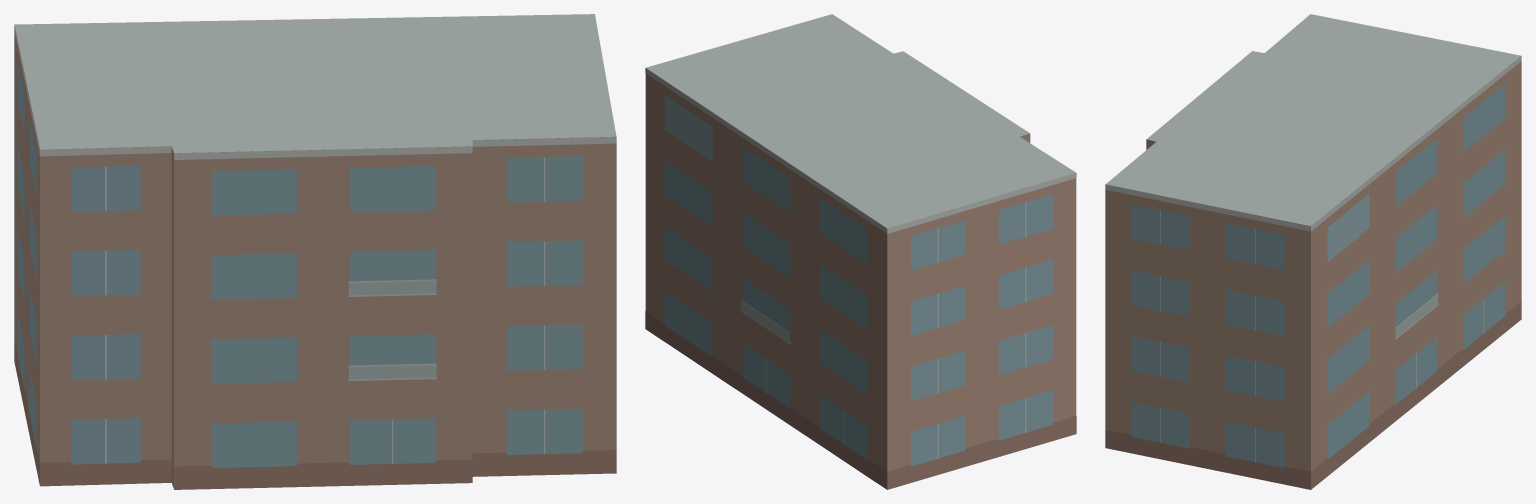
Rendered from survey-upis-32889236.glb.
3 views of the same model, side by side, from view 1: azimuth 30°, elevation 25°; view 2: azimuth 150°, elevation 25°; view 3: azimuth 270°, elevation 25° (orthographic). The views are drawn at different scales.
Visible parts, largest first — view 1: survey-upis-32889236.tmp; view 2: survey-upis-32889236.tmp; view 3: survey-upis-32889236.tmp.
Boxes of the visible parts, box(x1,y1,x2,y2) form: survey-upis-32889236.tmp: box(14, 14, 616, 489); survey-upis-32889236.tmp: box(645, 14, 1076, 489); survey-upis-32889236.tmp: box(1105, 14, 1521, 489).
Size of the model in its own units: 20.71 by 12 by 17.17.
